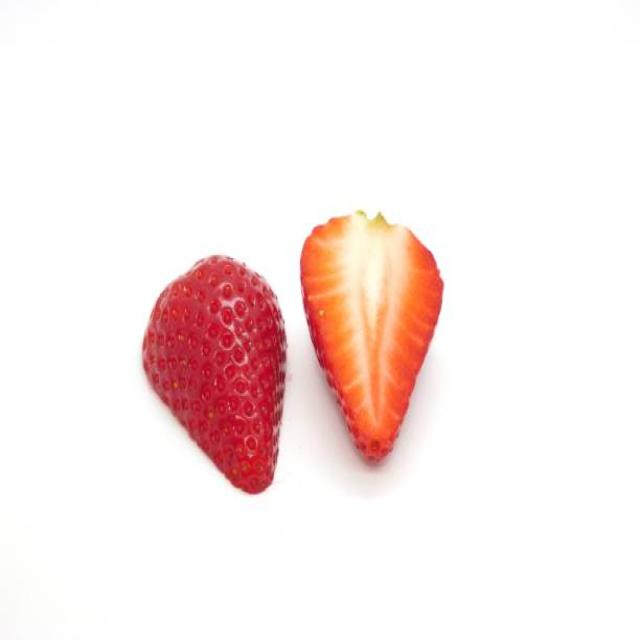Healthy Fruit: (299, 210, 445, 467), (139, 253, 288, 495)
